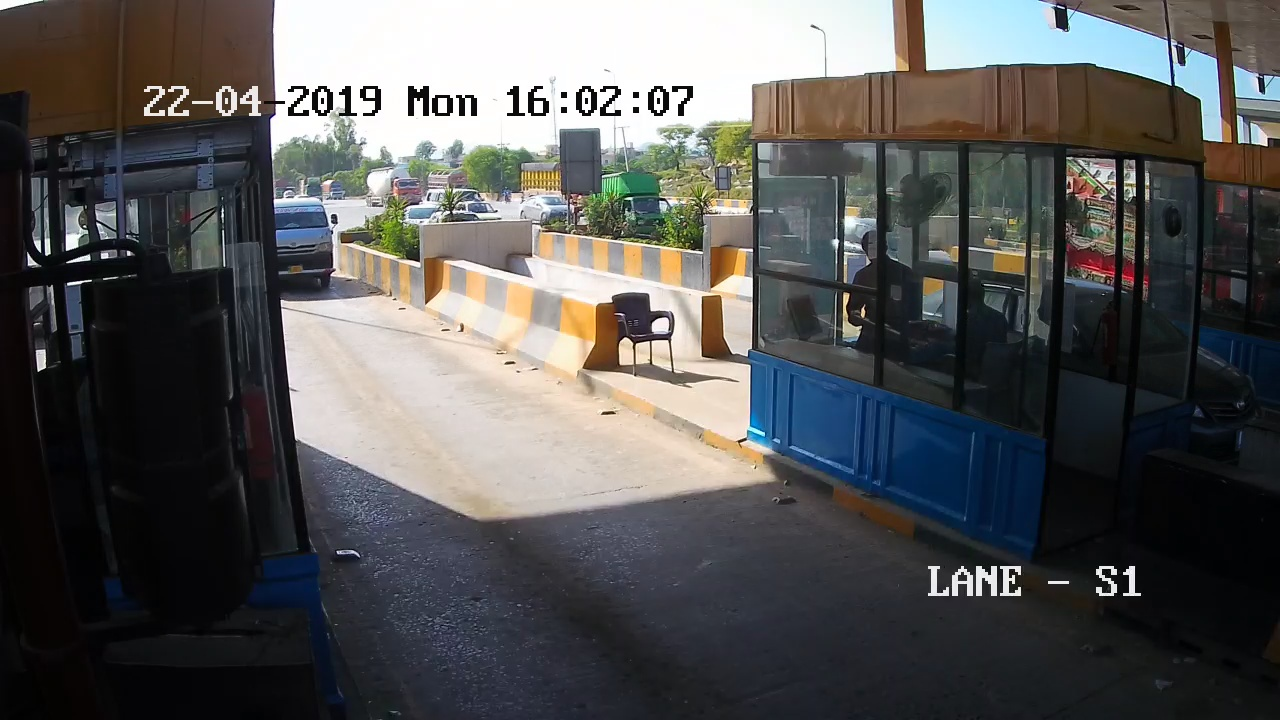car: (269, 183, 349, 317)
